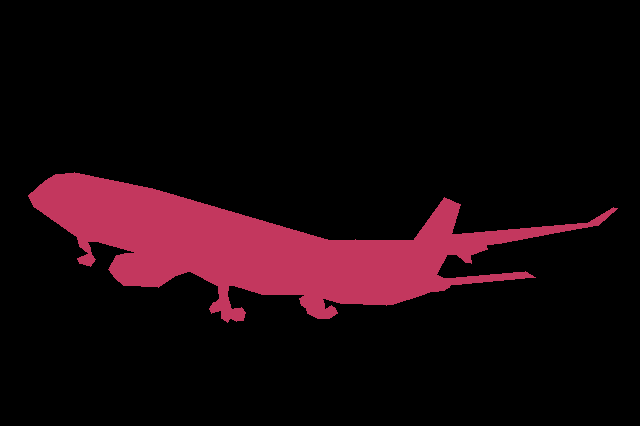Airplane: (28, 172, 617, 322)
